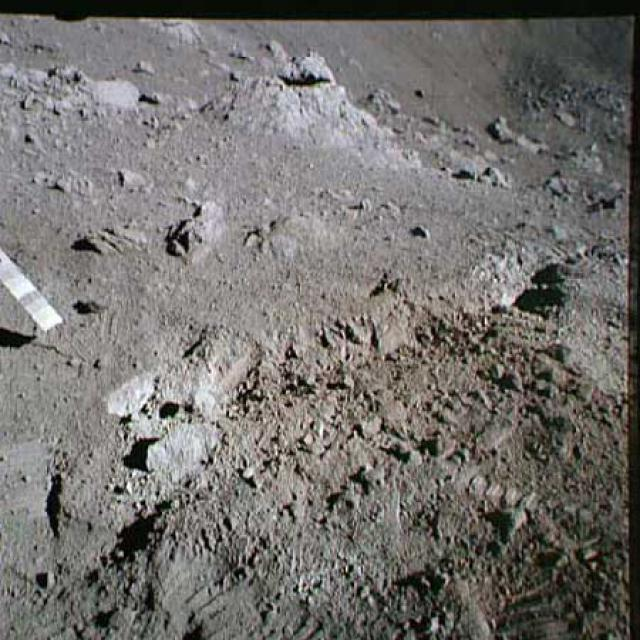artifact: (0, 247, 77, 349)
rock: (201, 44, 424, 173), (0, 50, 143, 121), (162, 189, 232, 267), (486, 108, 550, 162), (454, 153, 508, 190)
